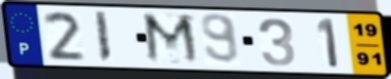1: (315, 17, 342, 70)
2: (41, 10, 89, 61)
3: (256, 17, 296, 67)
9: (200, 12, 242, 69)
I: (92, 10, 113, 64)
M: (140, 11, 203, 67)
